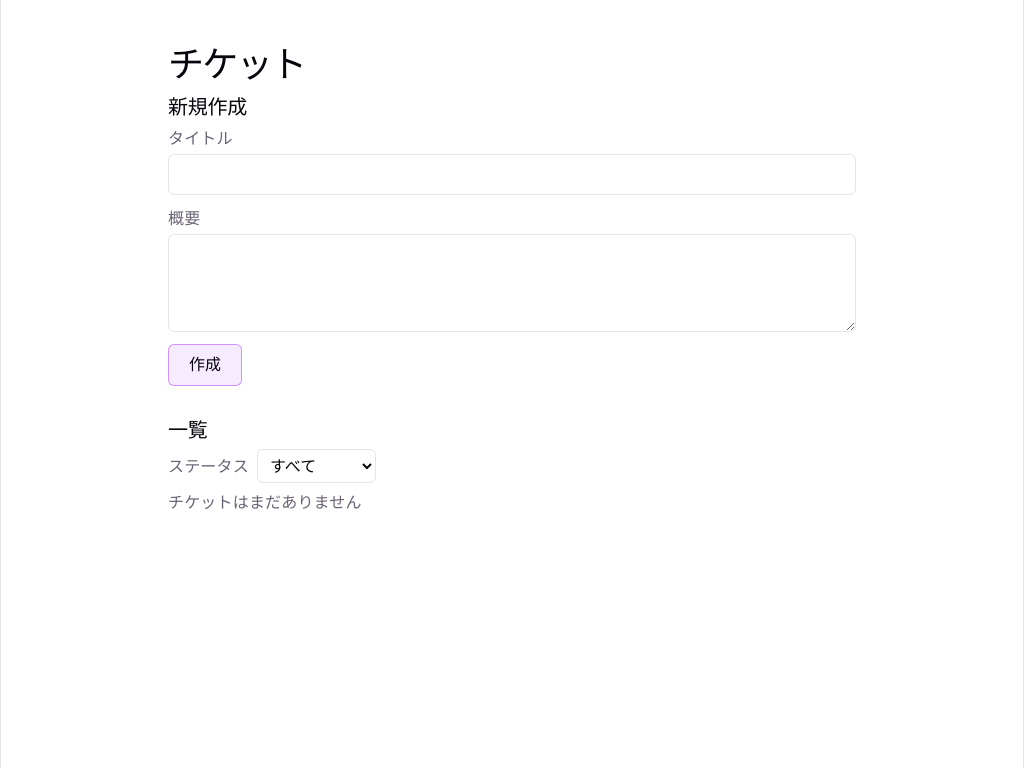
it: チケット作成フォーム › 検証エラーのときは、APIが返したエラーを表示する
Expected: the text "チケットはまだありません" is shown, [168,491,362,513]
Click the button "作成": click(205, 365) [168,344,242,386]
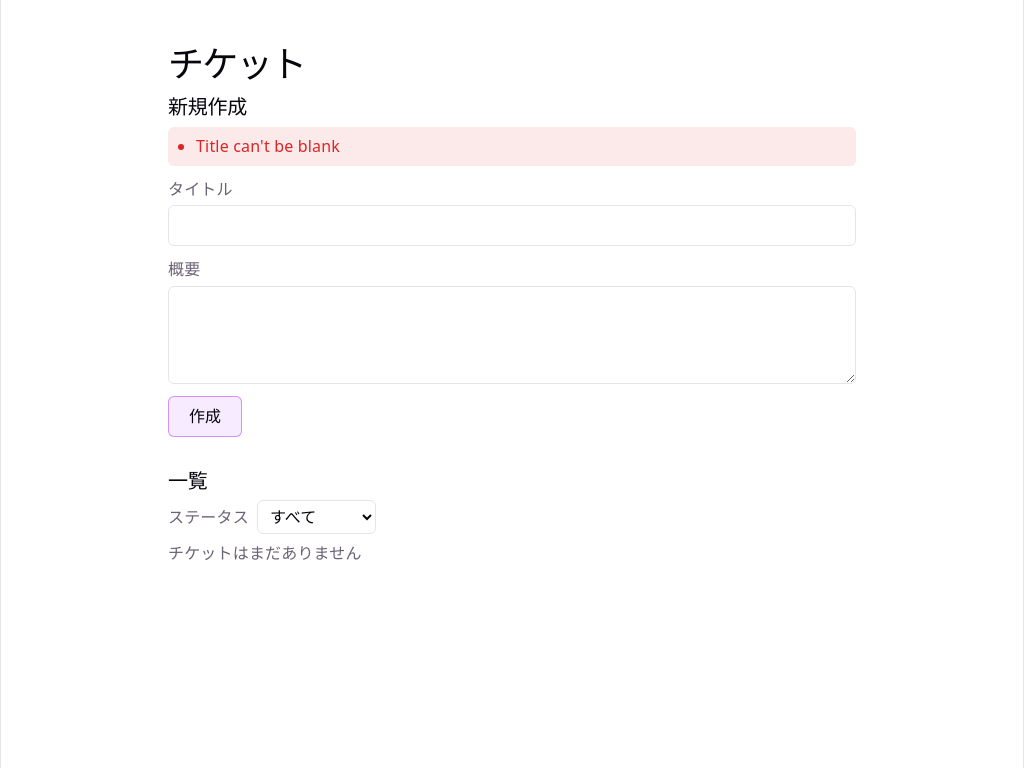
Expected: the message reads "Title can't be blank", [196,135,340,157]
